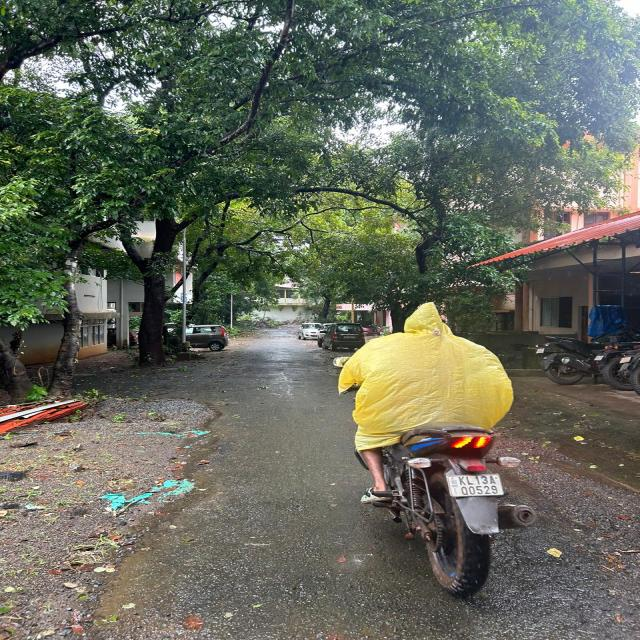motorcycle ahead at: (328, 304, 548, 594)
tree ahead at: (72, 174, 220, 375)
